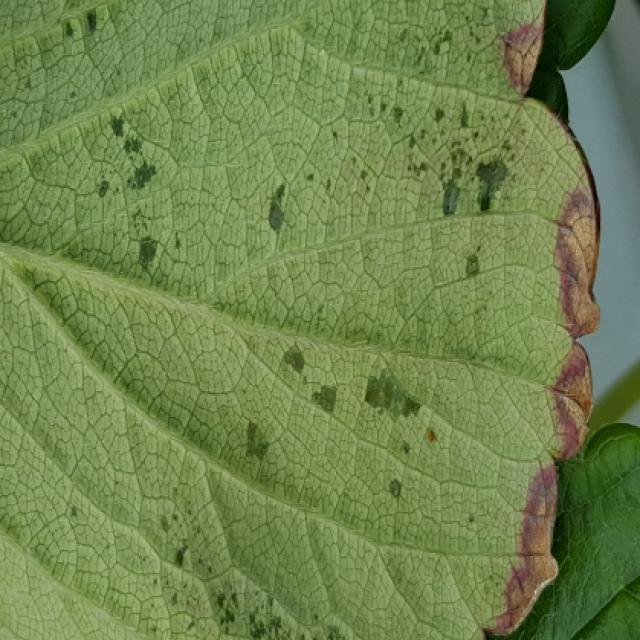Angular Leafspot: (3, 0, 602, 638)
